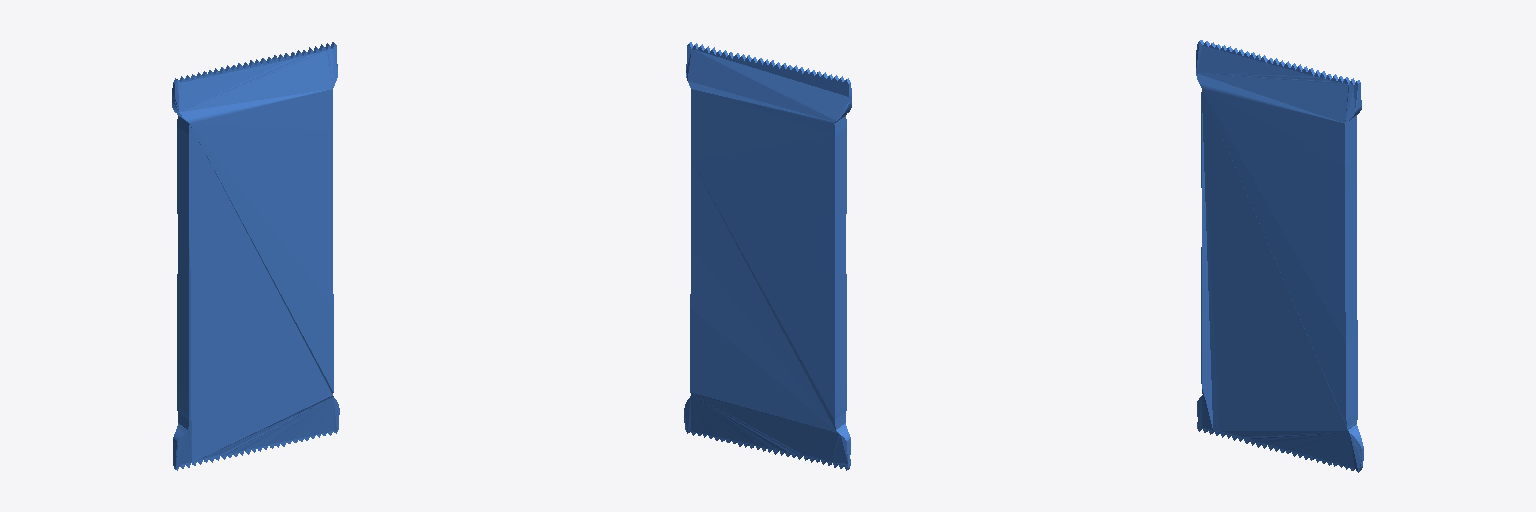
Rendered from packshot.obj.
3 views of the same model, side by side, from view 1: azimuth 30°, elevation 25°; view 2: azimuth 150°, elevation 25°; view 3: azimuth 330°, elevation 25° (orthographic).
Visible parts, largest first — view 1: SIK; view 2: SIK; view 3: SIK.
Boxes of the visible parts, x1,y1,x2,y2 form: SIK: [172, 42, 339, 470]; SIK: [684, 42, 851, 470]; SIK: [1196, 40, 1363, 472].
Size of the model in its own units: 37.31 by 84.95 by 4.65.